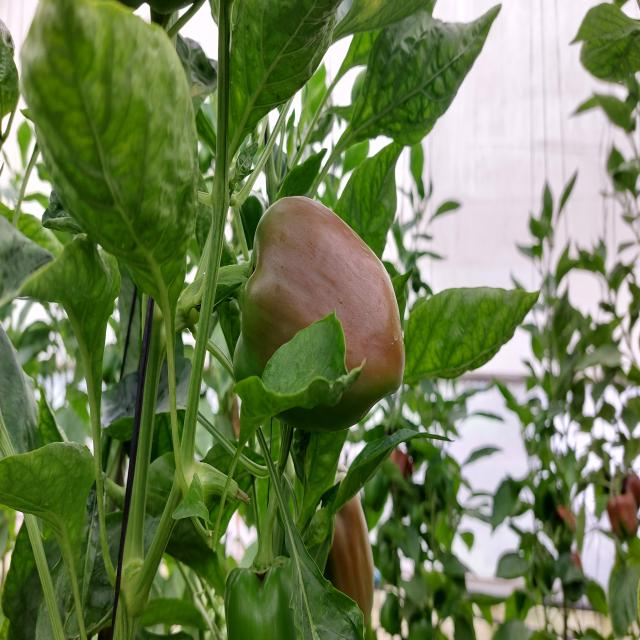BrownishRed--Can-be-Harvested: (245, 202, 401, 422), (303, 484, 377, 622)
